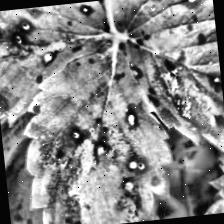Leaf Spot: (10, 32, 181, 224), (109, 0, 224, 168), (0, 0, 124, 133), (0, 76, 47, 198), (2, 135, 57, 224), (194, 129, 224, 215)
